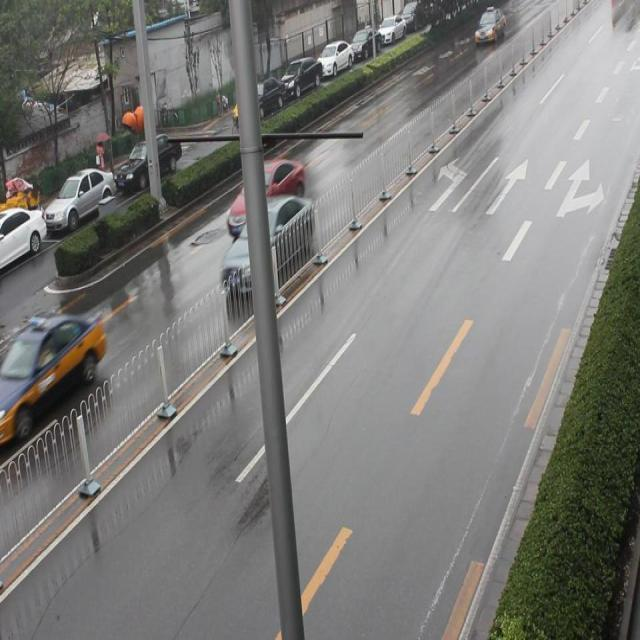car: (1, 305, 108, 443), (214, 192, 317, 302), (222, 151, 310, 231)
